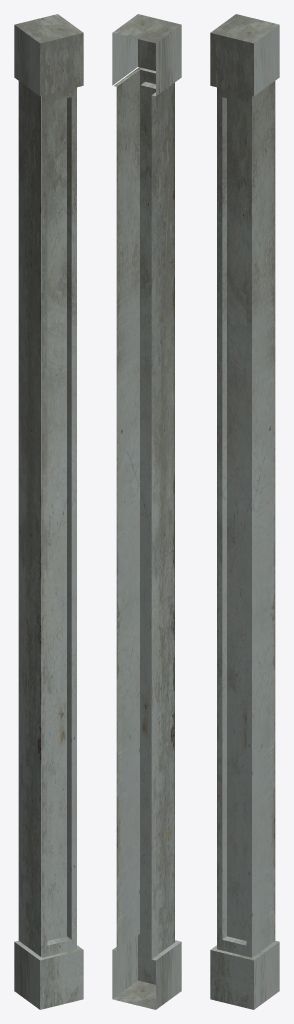
3 views of the same model, side by side, from view 1: azimuth 30°, elevation 25°; view 2: azimuth 150°, elevation 25°; view 3: azimuth 330°, elevation 25° (orthographic).
Visible parts, largest first — view 1: Cube (6); view 2: Cube (6); view 3: Cube (6).
Boxes of the visible parts, x1,y1,x2,y2 form: Cube (6): (14,14,83,1009); Cube (6): (112,14,181,1009); Cube (6): (210,14,279,1009).
Bounding box in the file's own units: 26.74 × 567 × 27.37.
